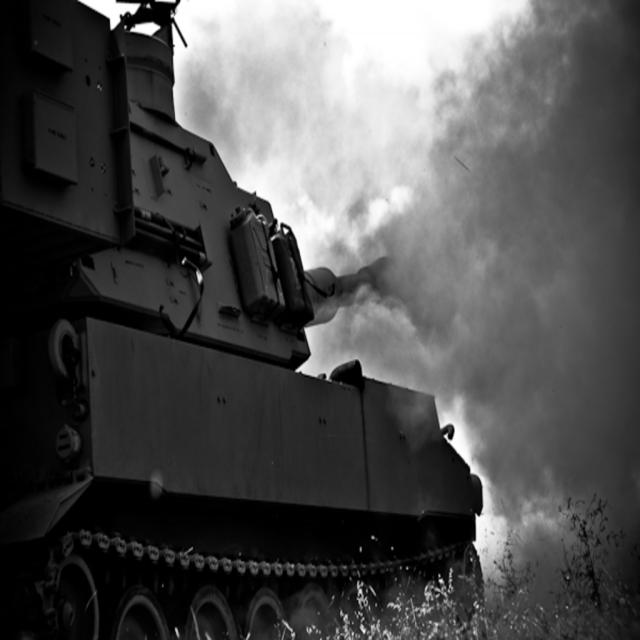tank: (0, 0, 487, 638)
